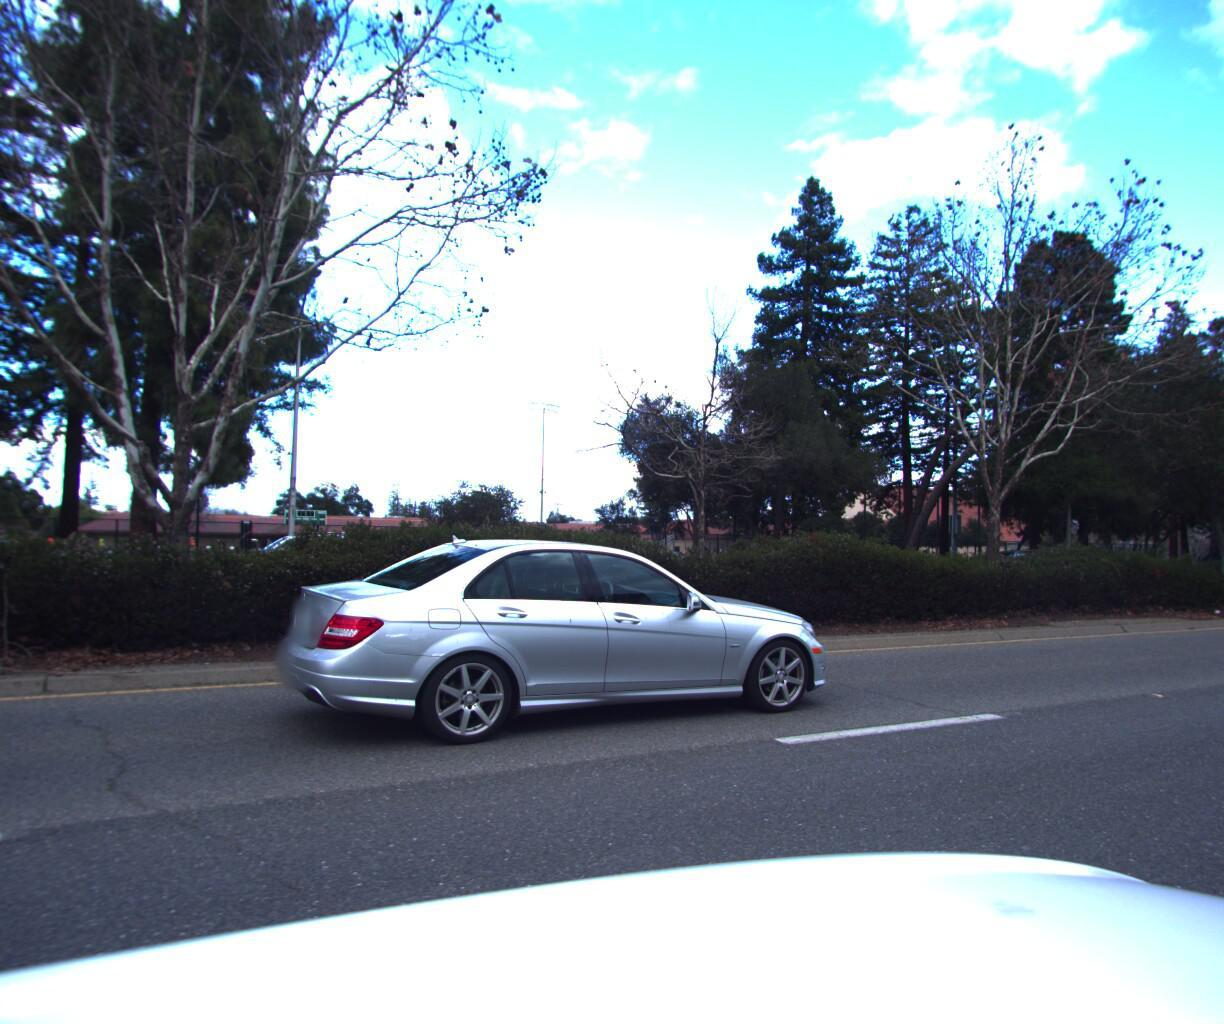car: (258, 519, 836, 768), (215, 523, 385, 587)
